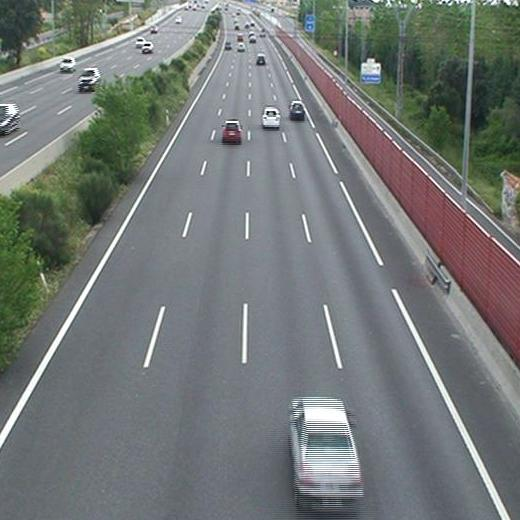car: (290, 399, 362, 508), (223, 121, 242, 141), (263, 108, 280, 127), (291, 102, 305, 119), (255, 55, 264, 65), (237, 42, 246, 52)
